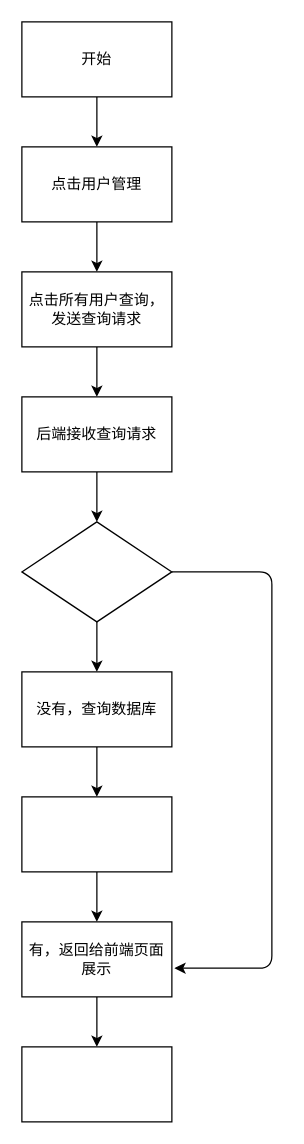
Image size: 304x1144. Some labels were removed from this diagram. The shapes that lost their labels are listed below. From the top down, each one's centre as x and y in pixels, then its label:
At (96,571): "查询缓存中是否有用用户集合".
At (96,834): "填充缓存中的用户集合".
At (96,1084): "结束".
